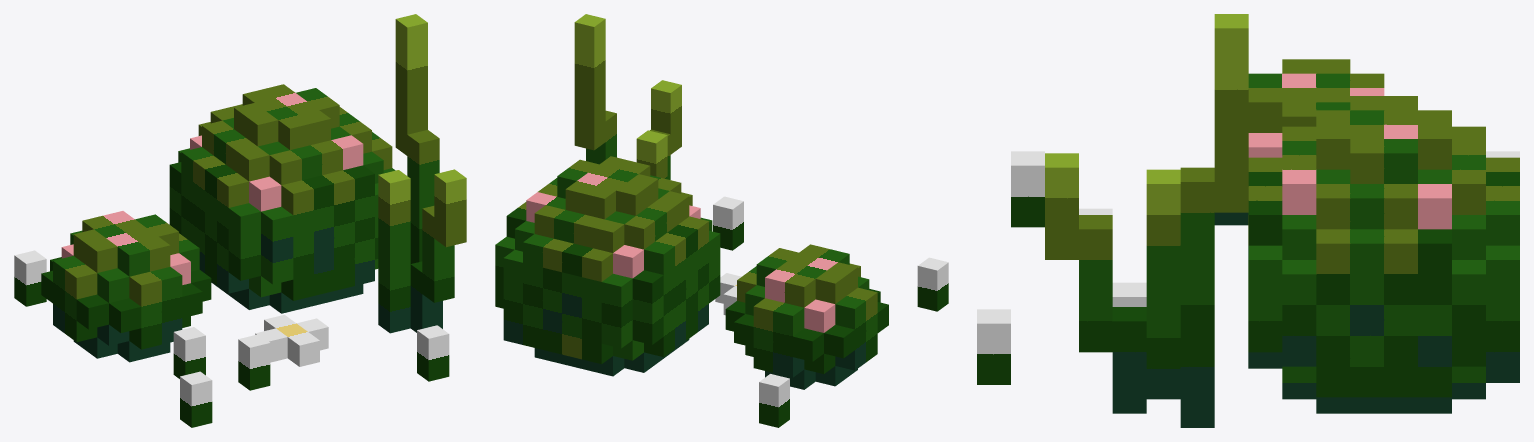
3 views of the same model, side by side, from view 1: azimuth 30°, elevation 25°; view 2: azimuth 150°, elevation 25°; view 3: azimuth 270°, elevation 25° (orthographic). The views are drawn at different scales.
Visible parts, largest first — view 1: PN_bush_bundle02-Mesh; view 2: PN_bush_bundle02-Mesh; view 3: PN_bush_bundle02-Mesh.
Boxes of the visible parts, x1=… form: PN_bush_bundle02-Mesh: x1=14, y1=14, x2=466, y2=427; PN_bush_bundle02-Mesh: x1=495, y1=14, x2=948, y2=427; PN_bush_bundle02-Mesh: x1=977, y1=14, x2=1519, y2=427.
Bounding box in the file's own units: 16 × 13 × 16.
1 material, 1 textured.
